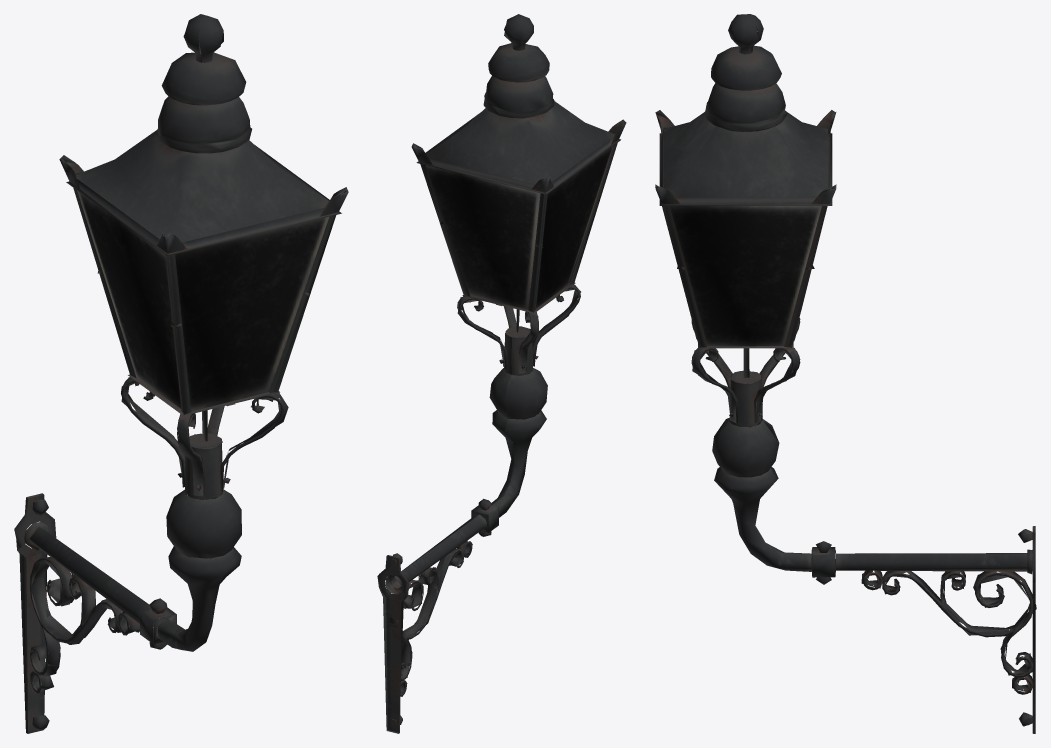
Rendered from ph_street_lamp_02.fbx.
3 renders of one model, left to right at view 1: azimuth 30°, elevation 25°; view 2: azimuth 150°, elevation 25°; view 3: azimuth 270°, elevation 25°, orthographic. The views are drawn at different scales.
Visible parts, largest first — view 1: ph_street_lamp_02_LOD0; view 2: ph_street_lamp_02_LOD0; view 3: ph_street_lamp_02_LOD0.
Part boxes in pixels (x1=…): ph_street_lamp_02_LOD0: x1=14, y1=14, x2=348, y2=733; ph_street_lamp_02_LOD0: x1=377, y1=14, x2=626, y2=733; ph_street_lamp_02_LOD0: x1=655, y1=14, x2=1036, y2=733.
Size of what is drawn, in the model's own units: 0.3839 by 1.67 by 0.8078.
2 materials, 2 textured.
